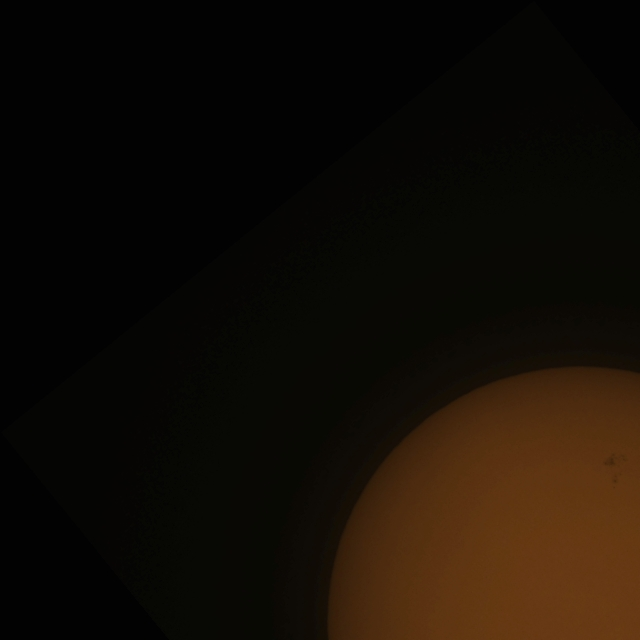sunspot: (604, 452, 626, 470), (611, 474, 619, 490)
